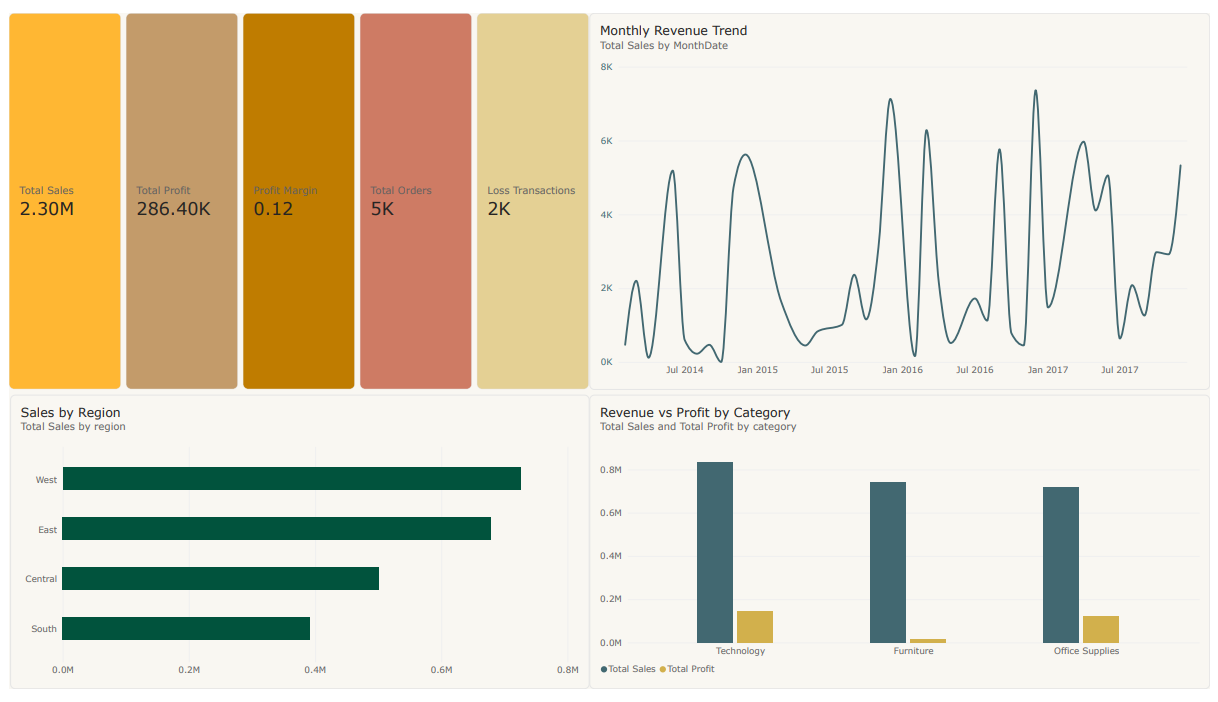

What the dashboard file says about the page in this screenshot:
{"tool":"powerbi","page":{"name":"Page 1","canvas":[1920,1080],"ordinal":0},"visuals":[{"type":"cardVisual","fields":{"Data":["cleaned_sales.Total Sales","cleaned_sales.Total Profit","cleaned_sales.Profit Margin","cleaned_sales.Total Orders","cleaned_sales.Loss Transactions"]},"box":[0,0,927.9,601.7],"z":0},{"type":"lineChart","title":"Monthly Revenue Trend","fields":{"Category":["MonthTable.MonthDate"],"Y":["cleaned_sales.Total Sales"]},"box":[927.9,0,992.4,601.7],"z":1000},{"type":"clusteredBarChart","title":"Sales by Region","fields":{"Category":["cleaned_sales.region"],"Y":["cleaned_sales.Total Sales"]},"box":[1.7,610.5,926.2,469.2],"z":1001},{"type":"lineClusteredColumnComboChart","title":"Revenue vs Profit by Category","fields":{"Category":["cleaned_sales.category"],"Y":["cleaned_sales.Total Sales","cleaned_sales.Total Profit"]},"box":[927.9,610.5,992.4,469.2],"z":1002}]}

Visuals, with their boxes in screenshot pixels (x1, y1, x2, y2), scaled from the page's 1920x1080 canvas onto the 1218x702 screenshot:
cardVisual - cleaned_sales.Total Sales x cleaned_sales.Total Profit: bbox=[0, 0, 589, 391]
"Monthly Revenue Trend" lineChart: bbox=[589, 0, 1217, 391]
"Sales by Region" clusteredBarChart: bbox=[1, 397, 589, 701]
"Revenue vs Profit by Category" lineClusteredColumnComboChart: bbox=[589, 397, 1217, 701]
